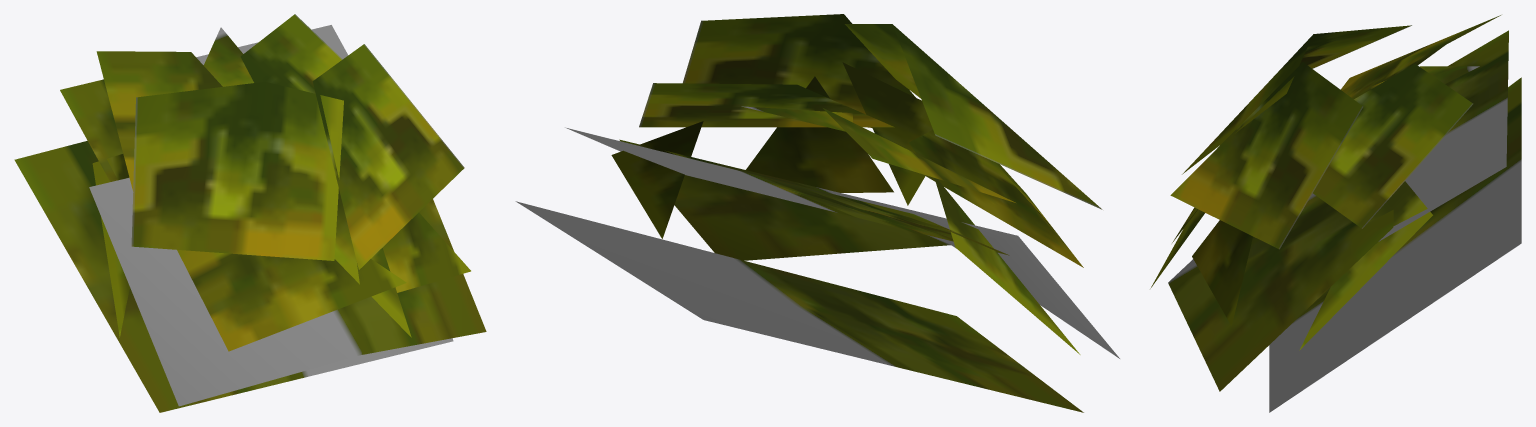
The model's file is fg_bushA_2.dae.
3 renders of one model, left to right at view 1: azimuth 30°, elevation 25°; view 2: azimuth 150°, elevation 25°; view 3: azimuth 270°, elevation 25°, orthographic. The views are drawn at different scales.
Visible parts, largest first — view 1: fg_bushA_2; view 2: fg_bushA_2; view 3: fg_bushA_2.
Boxes of the visible parts, left/top/right/bottom form: fg_bushA_2: left=14, top=14, right=486, bottom=412; fg_bushA_2: left=515, top=14, right=1119, bottom=412; fg_bushA_2: left=1150, top=15, right=1521, bottom=412.
Bounding box in the file's own units: 42.31 × 33.77 × 38.68.
Materials: 1 (1 with a texture image).
